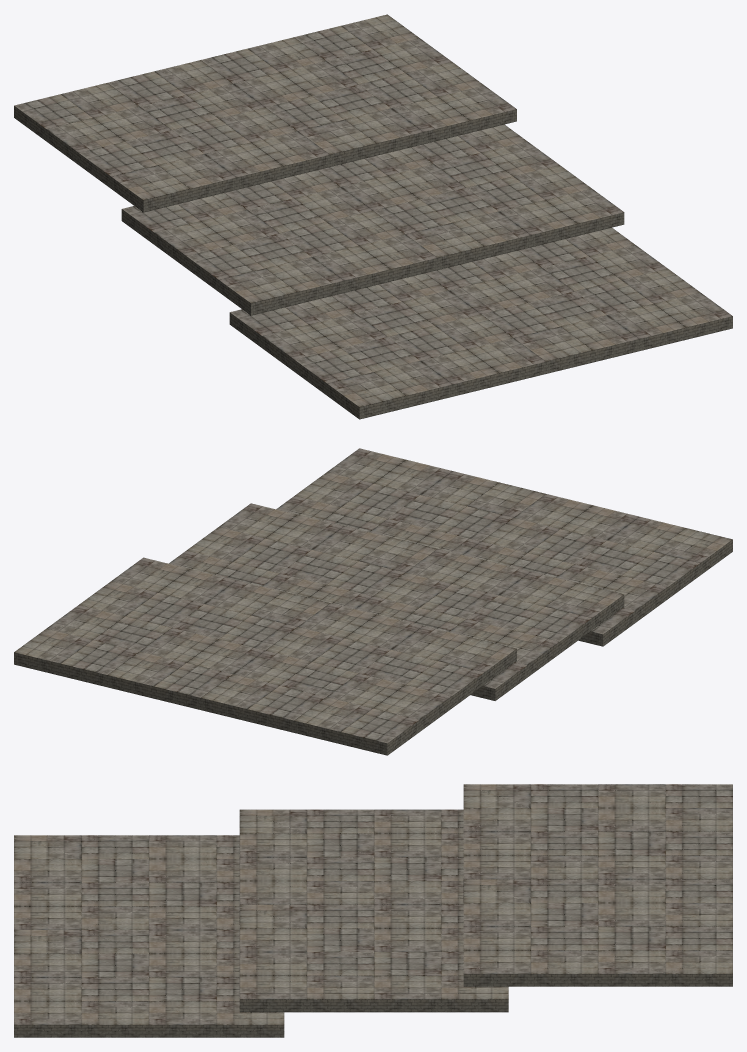
Rendered from Stage2Ceiling.fbx.
3 renders of one model, top to bottom at view 1: azimuth 30°, elevation 25°; view 2: azimuth 150°, elevation 25°; view 3: azimuth 270°, elevation 25°, orthographic. The views are drawn at different scales.
Visible parts, largest first — view 1: BB_16x16x189, BB_16x16x215, BB_16x16x190, BB_16x16x198, BB_16x16x216, BB_16x16x199; view 2: BB_16x16x189, BB_16x16x190, BB_16x16x215, BB_16x16x198, BB_16x16x216, BB_16x16x199; view 3: BB_16x16x190, BB_16x16x189, BB_16x16x199, BB_16x16x216, BB_16x16x198, BB_16x16x215.
Part boxes in pixels (box(x1,y1,x2,y2)): BB_16x16x189: box(14, 60, 330, 212); BB_16x16x215: box(229, 273, 546, 419); BB_16x16x190: box(201, 14, 516, 166); BB_16x16x198: box(121, 170, 437, 315); BB_16x16x216: box(425, 227, 732, 373); BB_16x16x199: box(318, 124, 624, 269); BB_16x16x189: box(200, 603, 516, 755); BB_16x16x190: box(14, 557, 329, 709); BB_16x16x215: box(463, 494, 732, 646); BB_16x16x198: box(355, 549, 624, 700); BB_16x16x216: box(276, 448, 545, 554); BB_16x16x199: box(169, 503, 437, 608); BB_16x16x190: box(463, 879, 732, 986); BB_16x16x189: box(463, 784, 732, 879); BB_16x16x199: box(239, 904, 508, 1012); BB_16x16x216: box(14, 930, 284, 1037); BB_16x16x198: box(239, 809, 463, 904); BB_16x16x215: box(14, 835, 239, 929).
Bounding box in the file's own units: 3200 × 5127 × 500.
Materials: 1 (1 with a texture image).
